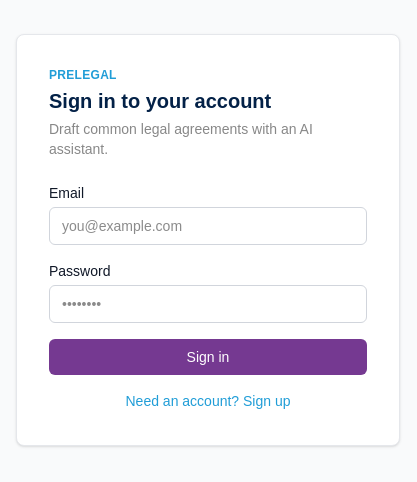
Test: LoginPage › shows the server's error message on failed sign in
Type "a@b.com" into the field labelled "Email". click: point(208, 226)
box: [49,207,367,245]
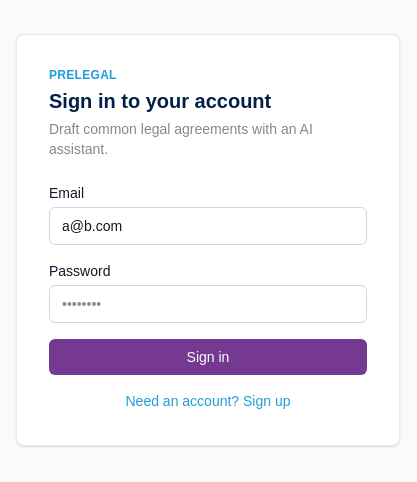
Type "wrong-password" into the password field labelled "Password". click: point(208, 304)
box: [49,285,367,323]
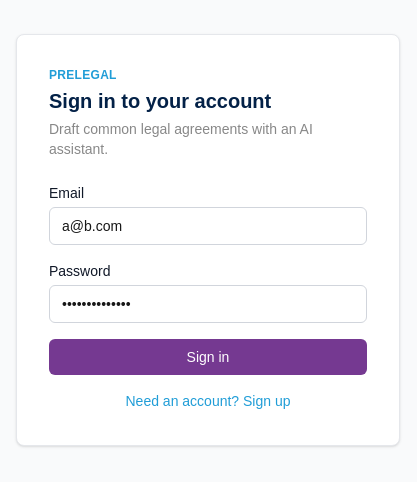
Click the button "Sign in". click: point(208, 357)
box: [49,339,367,375]
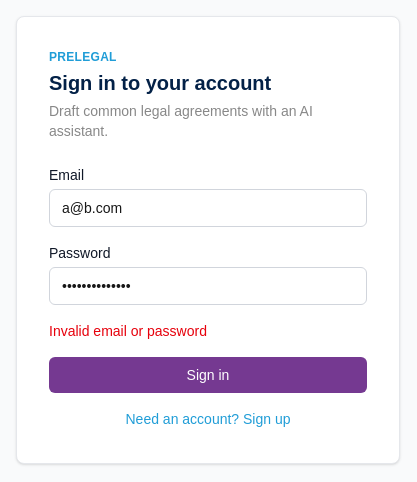
Expected: the message reads "Invalid email or password", [49,323,207,339]
